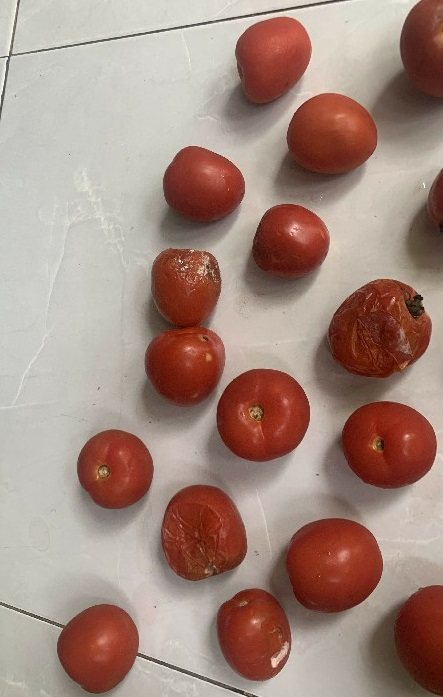NG: (326, 273, 436, 379), (153, 482, 252, 583), (210, 585, 295, 685), (144, 325, 228, 407), (145, 245, 227, 327)
OK: (284, 509, 386, 620), (212, 362, 314, 462), (336, 398, 438, 494), (53, 597, 142, 697), (282, 89, 378, 178), (226, 13, 316, 103), (155, 140, 249, 222), (73, 422, 153, 512), (249, 199, 332, 280)
